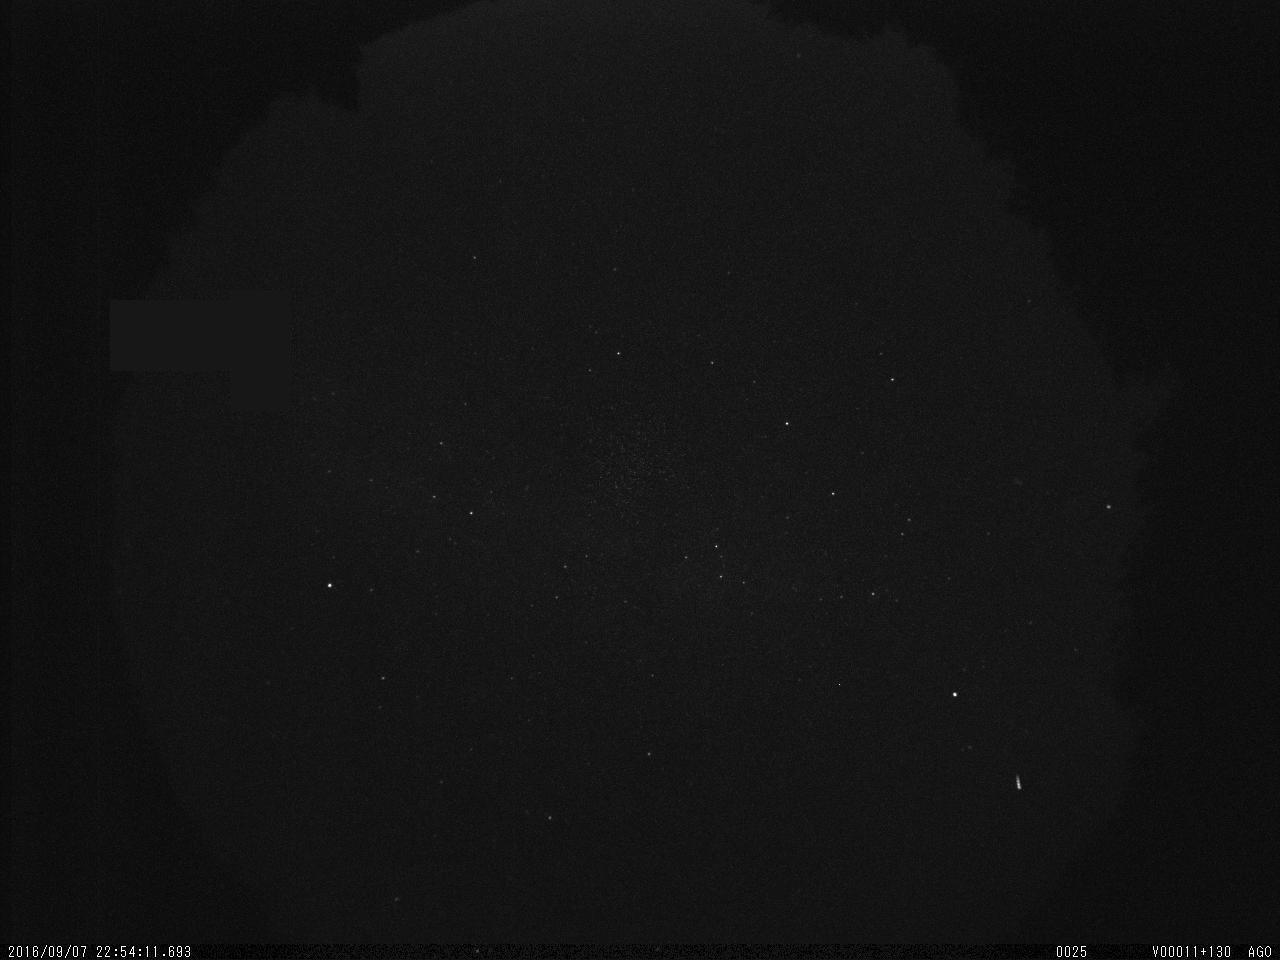meteor: (1009, 766, 1036, 797)
